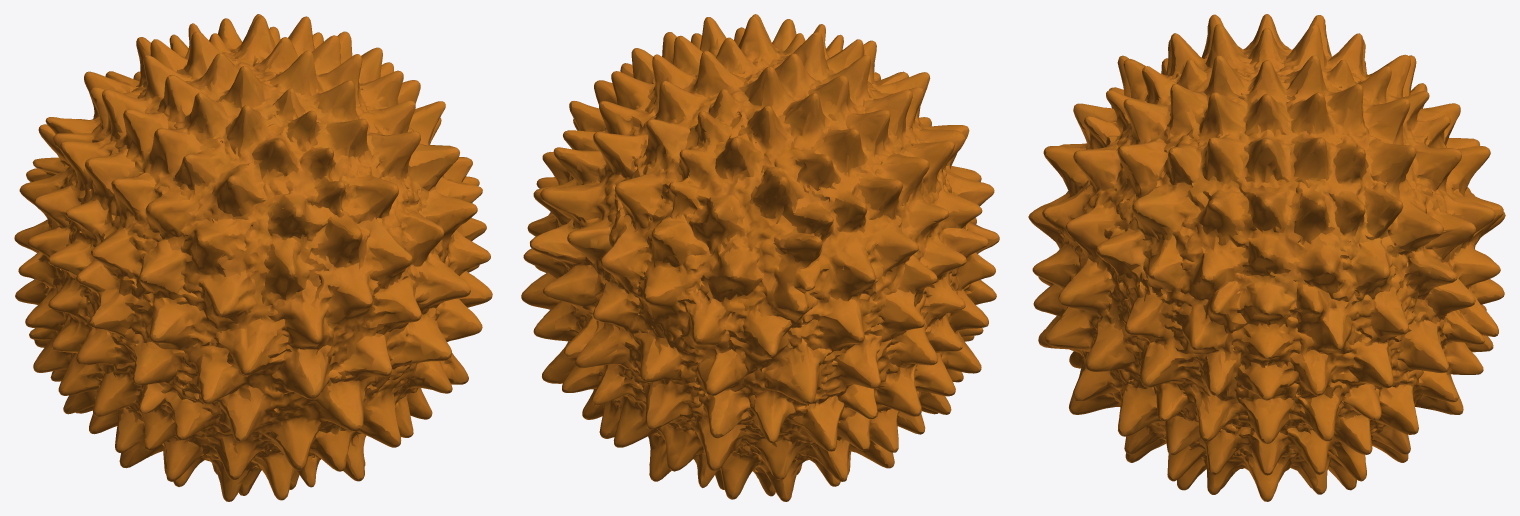
File: cand-4916784.glb
The picture shows the model from 3 angles, left to right: view 1: azimuth 30°, elevation 25°; view 2: azimuth 150°, elevation 25°; view 3: azimuth 270°, elevation 25°; orthographic projection.
Visible parts, largest first — view 1: world; view 2: world; view 3: world.
Part boxes in pixels (<box>): world: <box>14,14,492,501</box>; world: <box>521,14,999,501</box>; world: <box>1028,14,1505,501</box>.
Size of the model in its own units: 0.12 by 0.1202 by 0.1201.
1 material, 1 textured.
